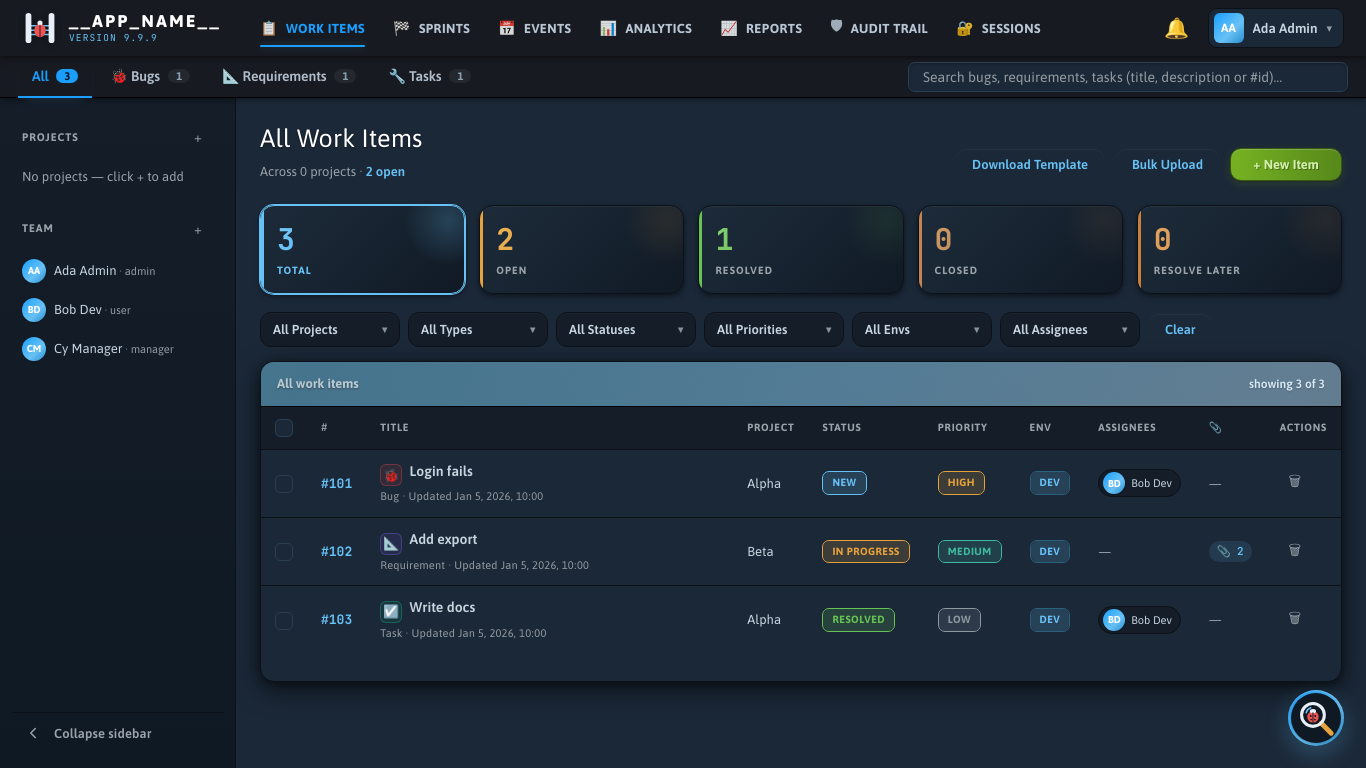
Test: event dialog rules › without any project the event cannot be saved
Click the button "📅 Events".
click(535, 28)  # box top-left (485, 0), bottom-right (584, 56)
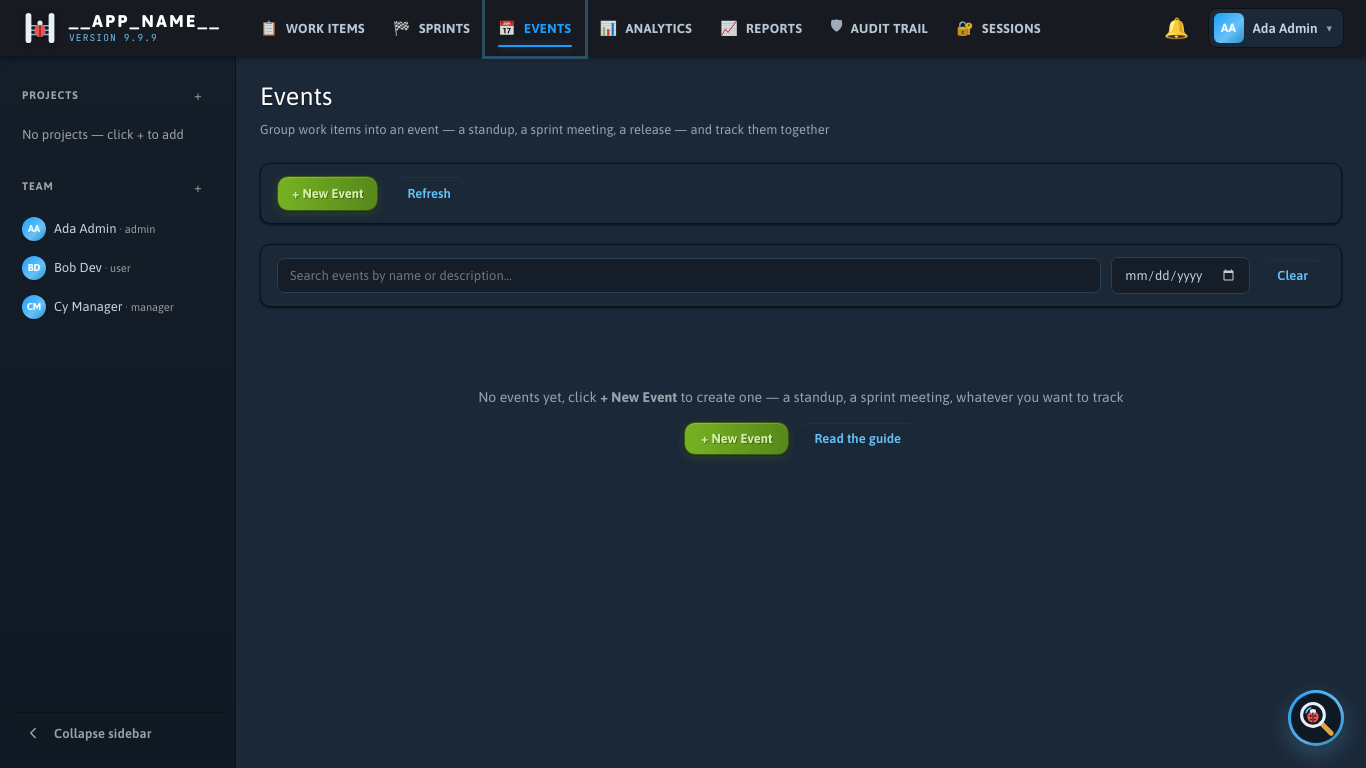
Click the button with id "newEventBtn".
click(328, 194)  # box top-left (277, 176), bottom-right (378, 211)
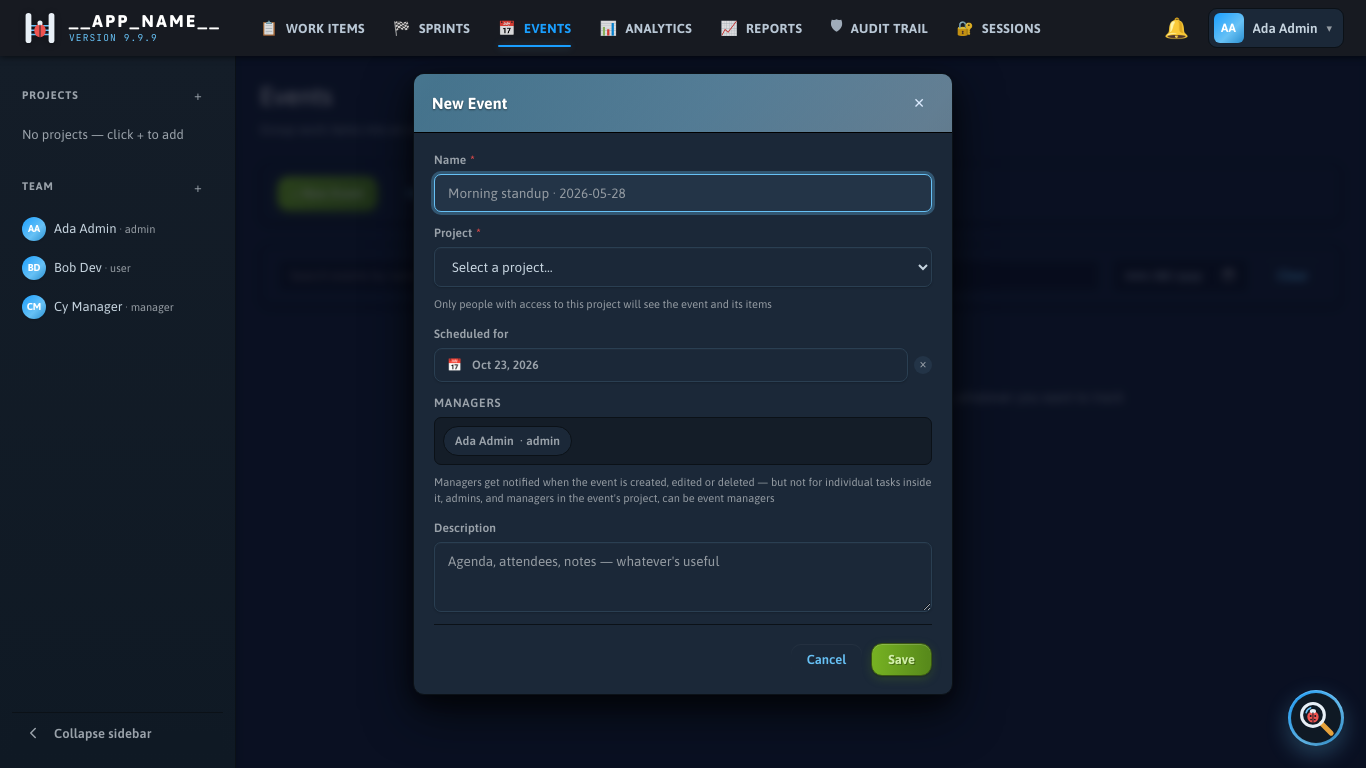
Type "Planning" into the field with placeholder "Morning standup · 2026-05-28".
click(683, 193); type("Planning")  # box top-left (434, 174), bottom-right (932, 212)
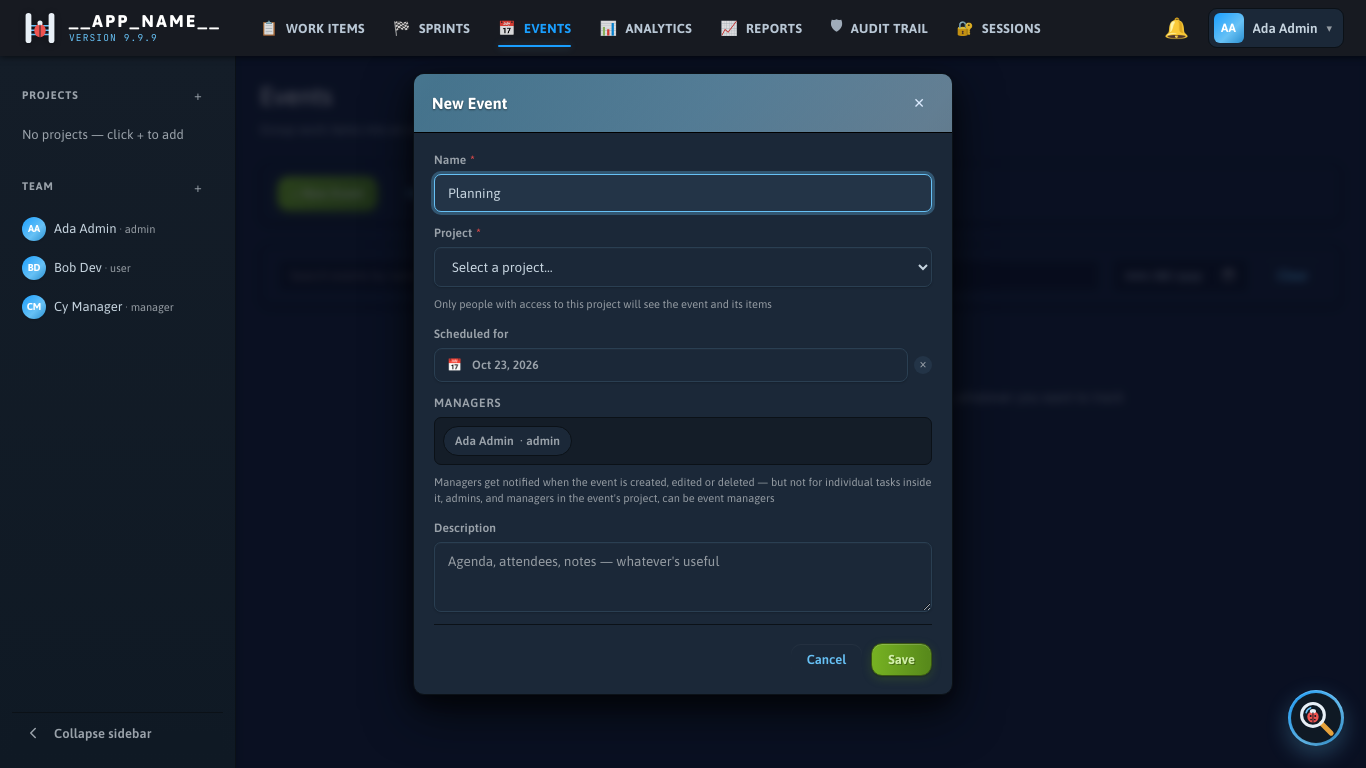
Submit the form with id "formEvent", box top-left (414, 133), bottom-right (952, 694)
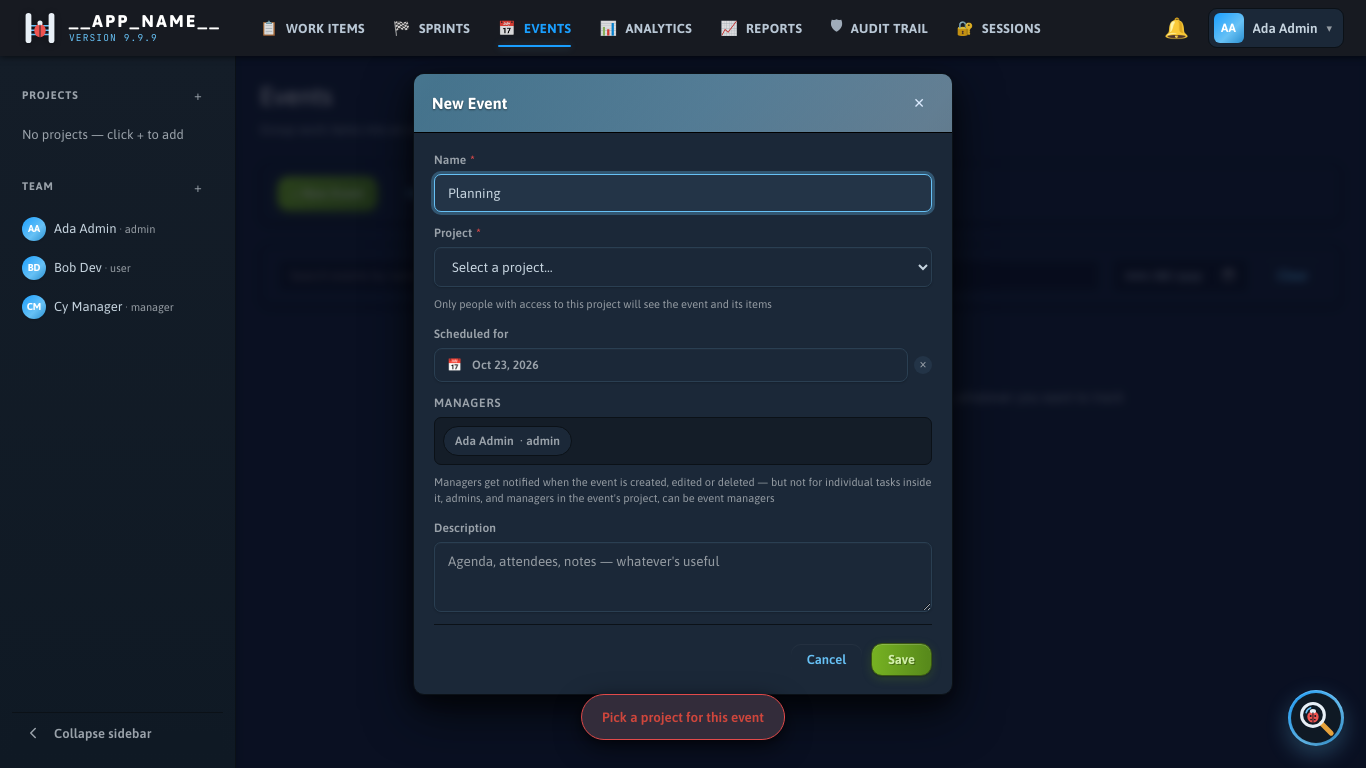
Check: the text "Pick a project for this event" is shown, box top-left (581, 694), bottom-right (785, 740)
